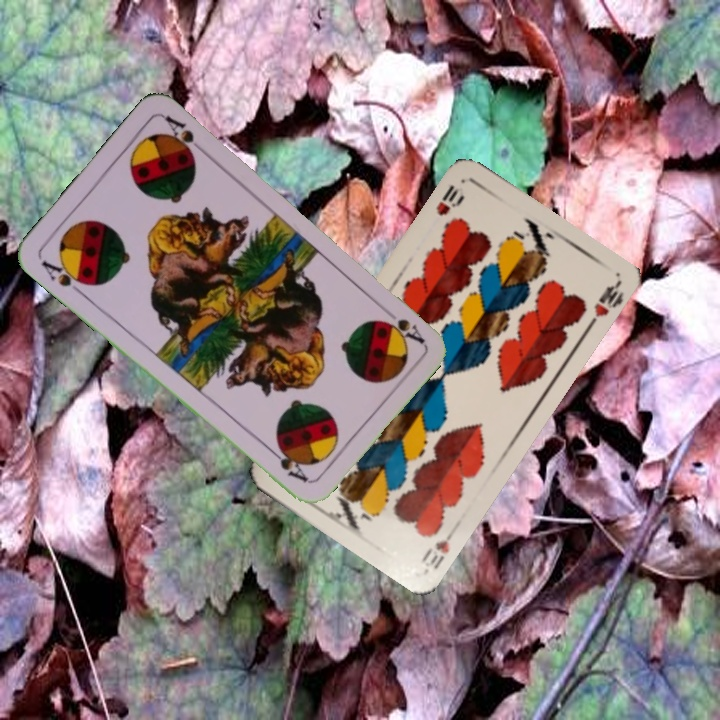H10: (417, 521, 460, 574), (431, 180, 467, 219)
SA: (37, 256, 92, 298), (381, 314, 427, 346)
